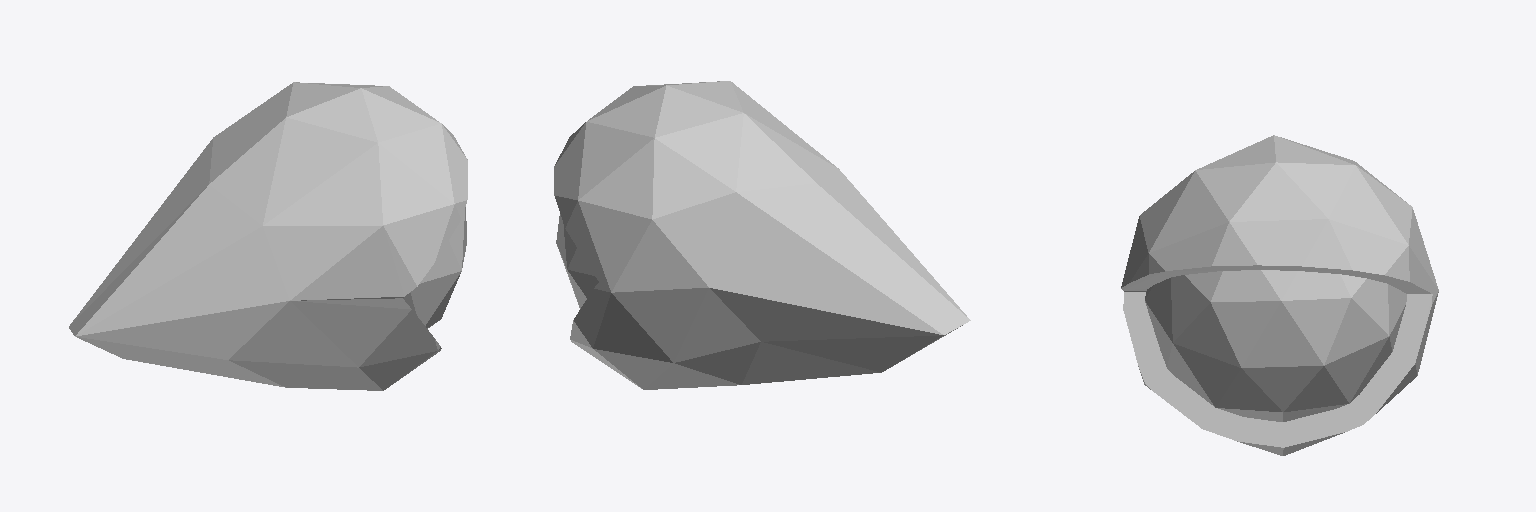
File: eye.obj
The picture shows the model from 3 angles: view 1: azimuth 30°, elevation 25°; view 2: azimuth 150°, elevation 25°; view 3: azimuth 270°, elevation 25°; orthographic projection.
Visible parts, largest first — view 1: Icosphere.001; view 2: Icosphere.001; view 3: Icosphere.001.
Boxes of the visible parts, x1,y1,x2,y2 form: Icosphere.001: [69, 82, 467, 390]; Icosphere.001: [554, 81, 970, 389]; Icosphere.001: [1121, 135, 1438, 455].
Size of the model in its own units: 1.95 by 1.4 by 1.4.